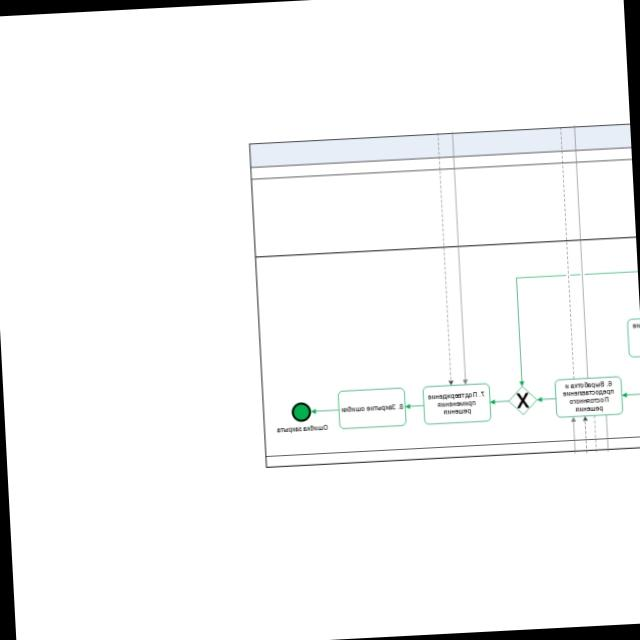arrow: (312, 407, 340, 415), (490, 398, 510, 406), (537, 396, 556, 404), (405, 402, 424, 410)
circle: (288, 399, 314, 425)
diamond: (507, 386, 536, 415)
rectangle: (336, 387, 405, 430), (554, 376, 623, 418), (421, 383, 489, 425)
text_region: (276, 423, 329, 435)
